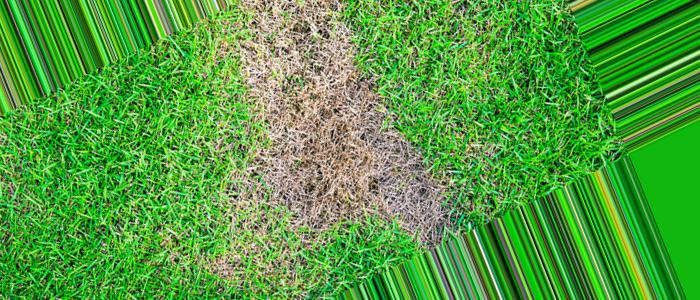patch: (256, 141, 416, 182), (255, 84, 374, 123), (249, 24, 347, 69), (246, 188, 347, 226), (374, 190, 453, 235)
